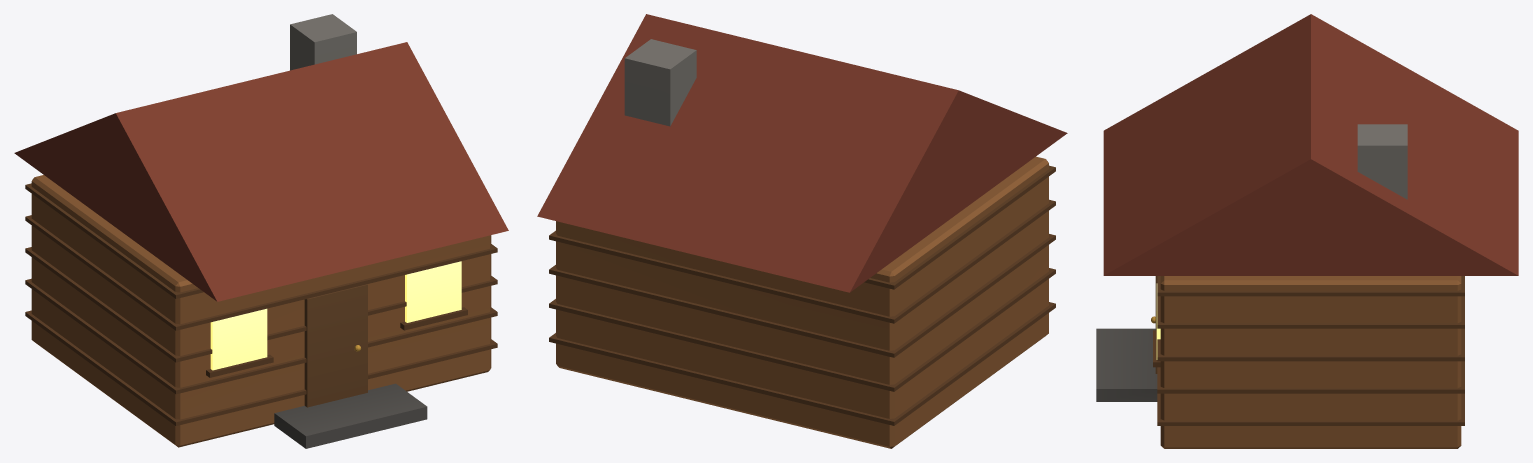
The model's file is cottage.glb.
3 views of the same model, side by side, from view 1: azimuth 30°, elevation 25°; view 2: azimuth 150°, elevation 25°; view 3: azimuth 270°, elevation 25° (orthographic). The views are drawn at different scales.
Parts seen in each view (by area): view 1: cottage; view 2: cottage; view 3: cottage.
Boxes of the visible parts, x1=… form: cottage: x1=14, y1=14, x2=508, y2=448; cottage: x1=537, y1=14, x2=1067, y2=448; cottage: x1=1096, y1=14, x2=1518, y2=448.
Size of the model in its own units: 5.3 by 4.4 by 5.9.
